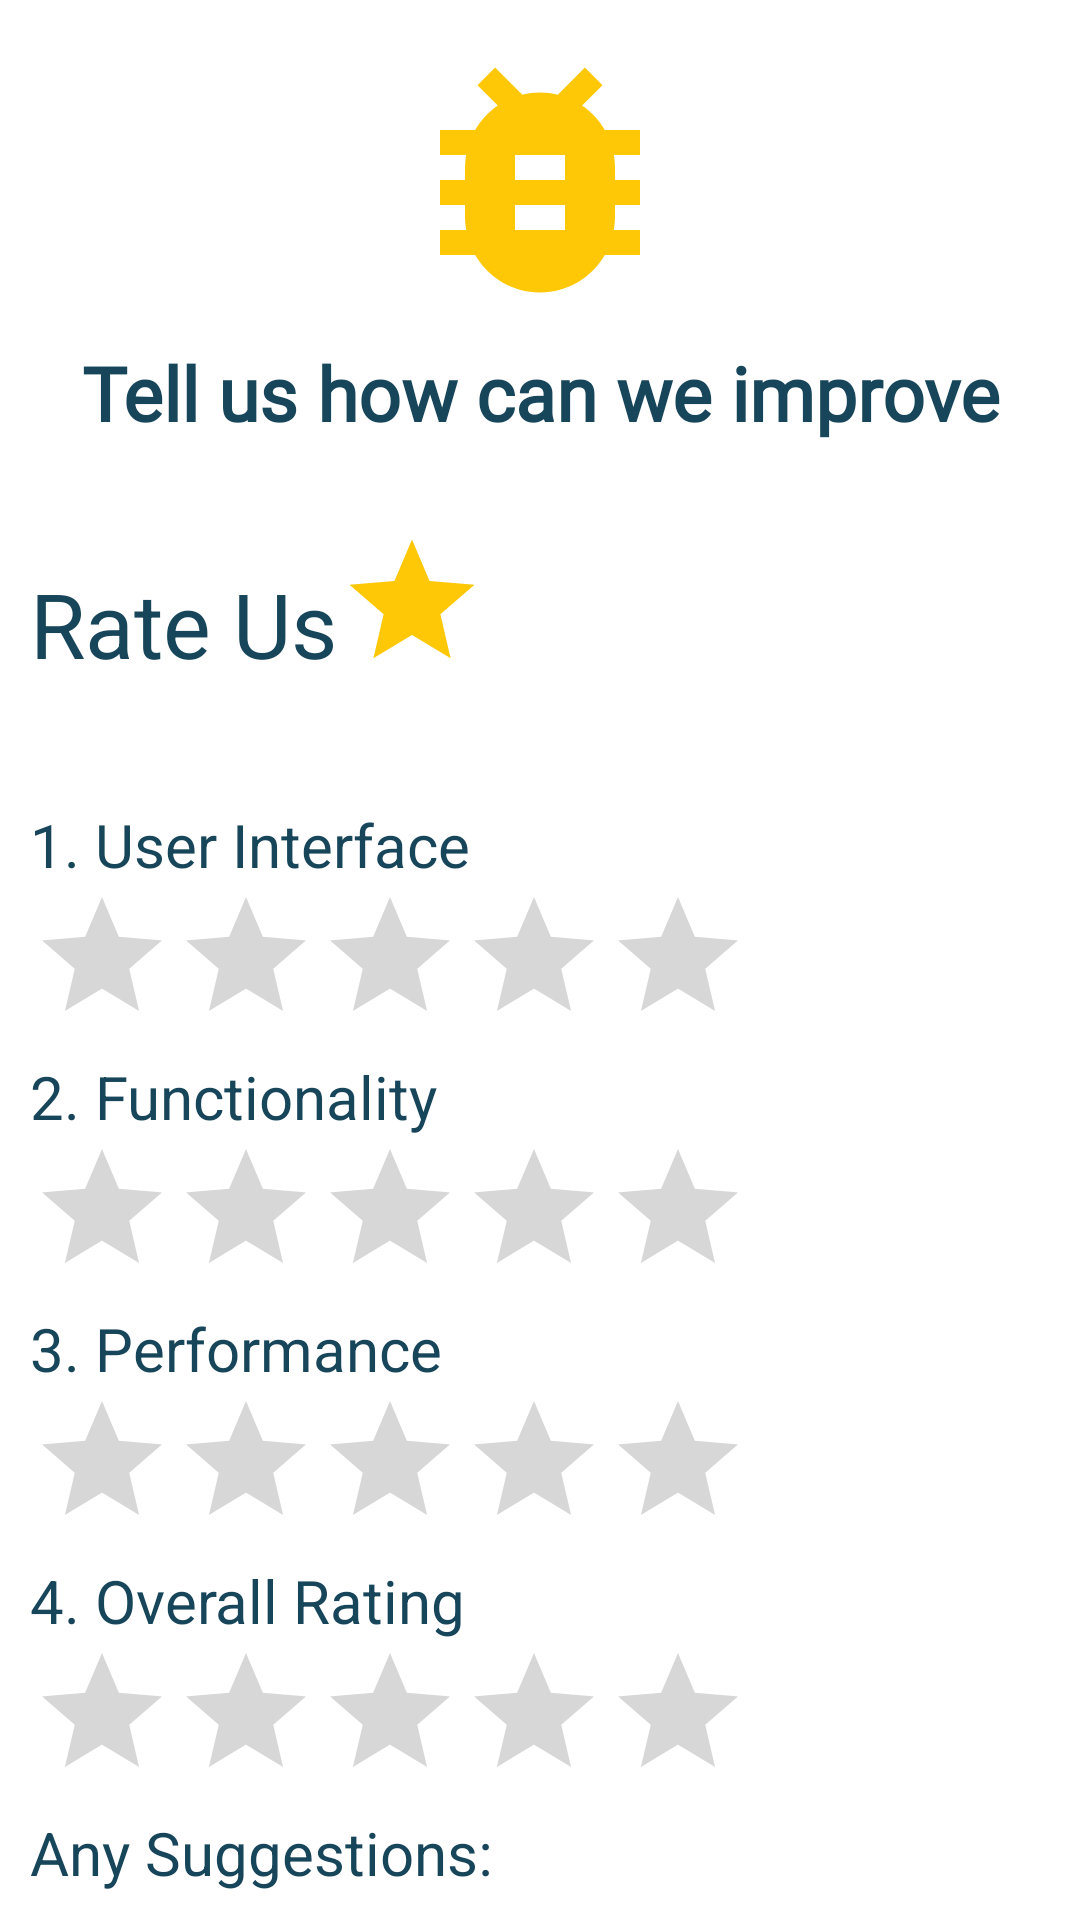

Where to tap for icons on this 1080*1920 app screen, as (x,y):
bug: (540,180)
star: (412,599)
